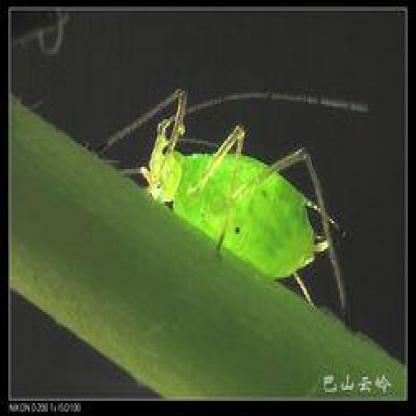aphid: (125, 73, 353, 291)
